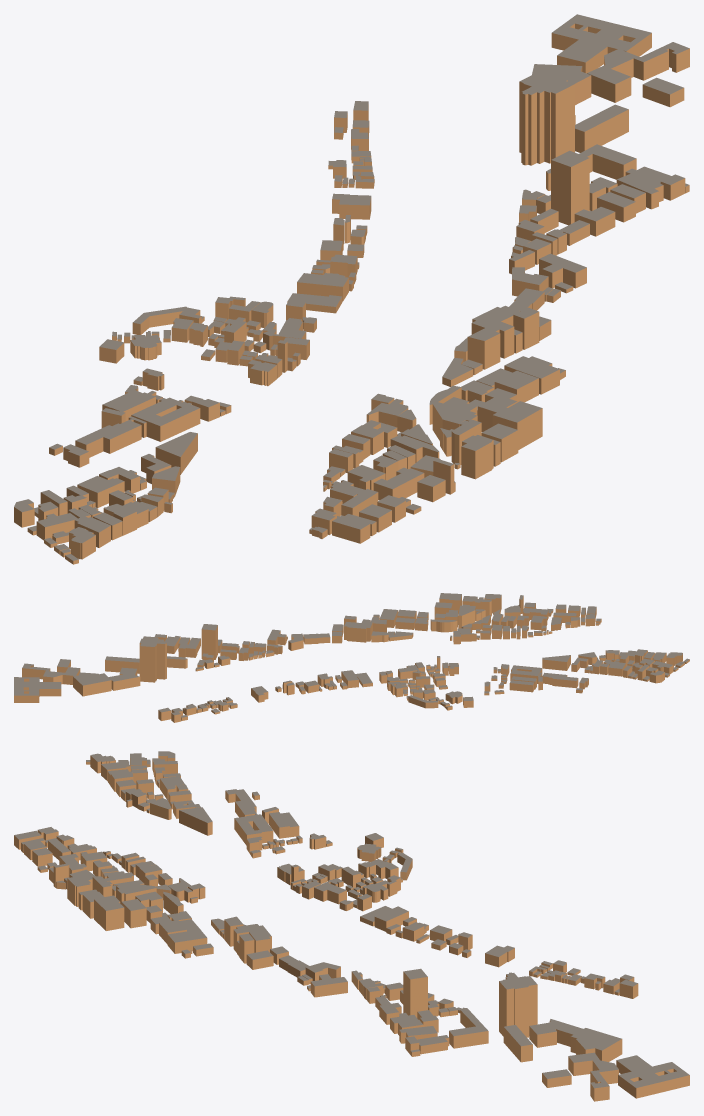
File: ichigaya_building_osm2.fbx
3 renders of one model, top to bottom at view 1: azimuth 30°, elevation 25°; view 2: azimuth 150°, elevation 25°; view 3: azimuth 270°, elevation 25°, orthographic. The views are drawn at different scales.
Parts seen in each view (by area): view 1: ボアソナード・タワー, 診療棟, 富士見坂校舎, シティタワー・ルフォン九段の杜, element.1032, 大内山校舎, element.921, いためし, element.805, アルカディア 市ヶ谷 私学 会館, JS 市ヶ谷 ビル, element.104 (+15 smaller); view 2: ボアソナード・タワー, 診療棟, 外濠校舎, 富士見坂校舎, アルカディア 市ヶ谷 私学 会館, シティタワー・ルフォン九段の杜, 富士見ゲート, 大内山校舎, element.921, element.546, element.1032, 五番町 グランド ビル (+19 smaller); view 3: 診療棟, ボアソナード・タワー, 富士見坂校舎, 外濠校舎, シティタワー・ルフォン九段の杜, element.805, 富士見ゲート, いためし, element.1032, 大内山校舎, アルカディア 市ヶ谷 私学 会館, 日本大学会館 (+5 smaller).
Boxes of the visible parts, x1,y1,x2,y2 form: ボアソナード・タワー: (519,72,574,165); 診療棟: (551,14,651,73); 富士見坂校舎: (587,42,689,102); シティタワー・ルフォン九段の杜: (551,150,589,225); element.1032: (131,397,200,441); 大内山校舎: (575,104,628,152); element.921: (75,416,146,457); いためし: (492,401,542,449); element.805: (546,144,636,190); アルカディア 市ヶ谷 私学 会館: (471,305,519,358); JS 市ヶ谷 ビル: (461,435,493,479); element.104: (539,253,586,288); ボアソナード・タワー: (139,636,166,682); 診療棟: (14,677,61,702); 外濠校舎: (73,672,111,696); 富士見坂校舎: (22,663,80,684); アルカディア 市ヶ谷 私学 会館: (344,619,373,642); シティタワー・ルフォン九段の杜: (201,624,217,659); 富士見ゲート: (108,667,140,690); 大内山校舎: (105,656,139,673); element.921: (538,672,578,688); element.546: (542,655,570,670); element.1032: (510,665,542,683); 五番町 グランド ビル: (458,604,475,628); 診療棟: (616,1055,689,1098); ボアソナード・タワー: (499,972,537,1037); 富士見坂校舎: (568,1052,618,1101); 外濠校舎: (570,1028,622,1061); シティタワー・ルフォン九段の杜: (403,968,427,1017); element.805: (449,1007,488,1048); 富士見ゲート: (529,1019,582,1047); いためし: (94,895,124,930); element.1032: (234,814,273,845); 大内山校舎: (503,1025,532,1062); アルカディア 市ヶ谷 私学 会館: (233,924,271,952); 日本大学会館: (167,929,207,953).
Bounding box in the file's own units: 114055 × 7932 × 96047.
